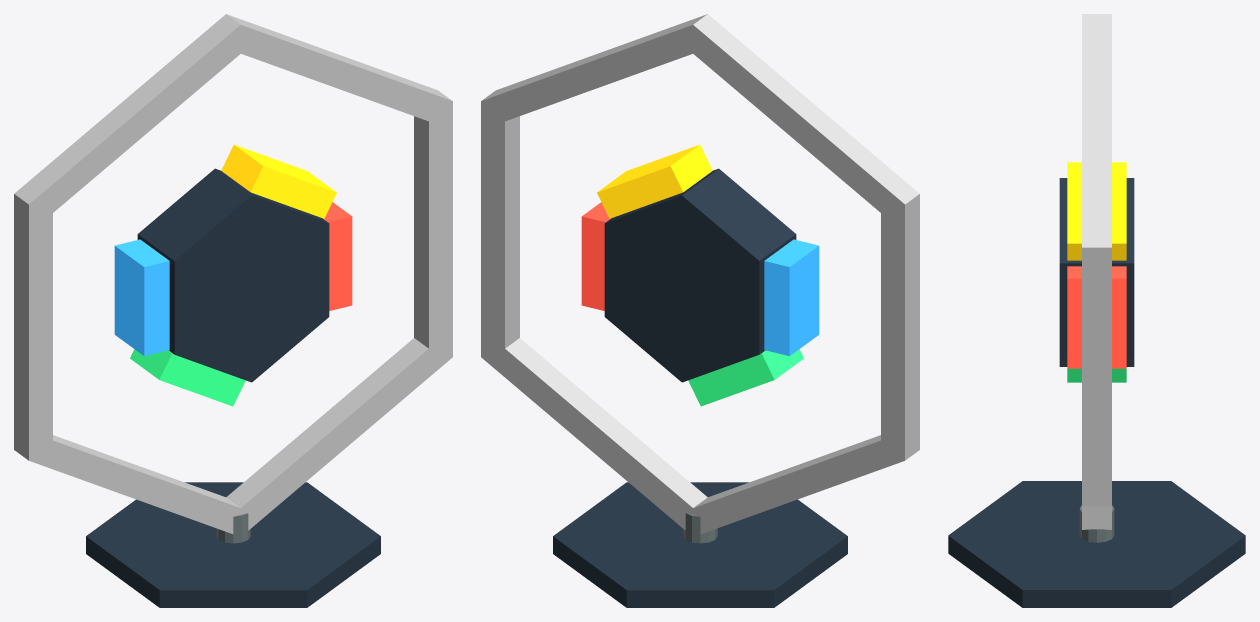
File: monumento.glb
3 renders of one model, left to right at view 1: azimuth 30°, elevation 25°; view 2: azimuth 150°, elevation 25°; view 3: azimuth 270°, elevation 25°, orthographic.
Visible parts, largest first — view 1: Cylinder; view 2: Cylinder; view 3: Cylinder.
Boxes of the visible parts, x1,y1,x2,y2 form: Cylinder: (14,14,452,607); Cylinder: (481,14,919,607); Cylinder: (948,14,1245,607).
Bounding box in the file's own units: 1.99 × 2.4 × 1.2.
